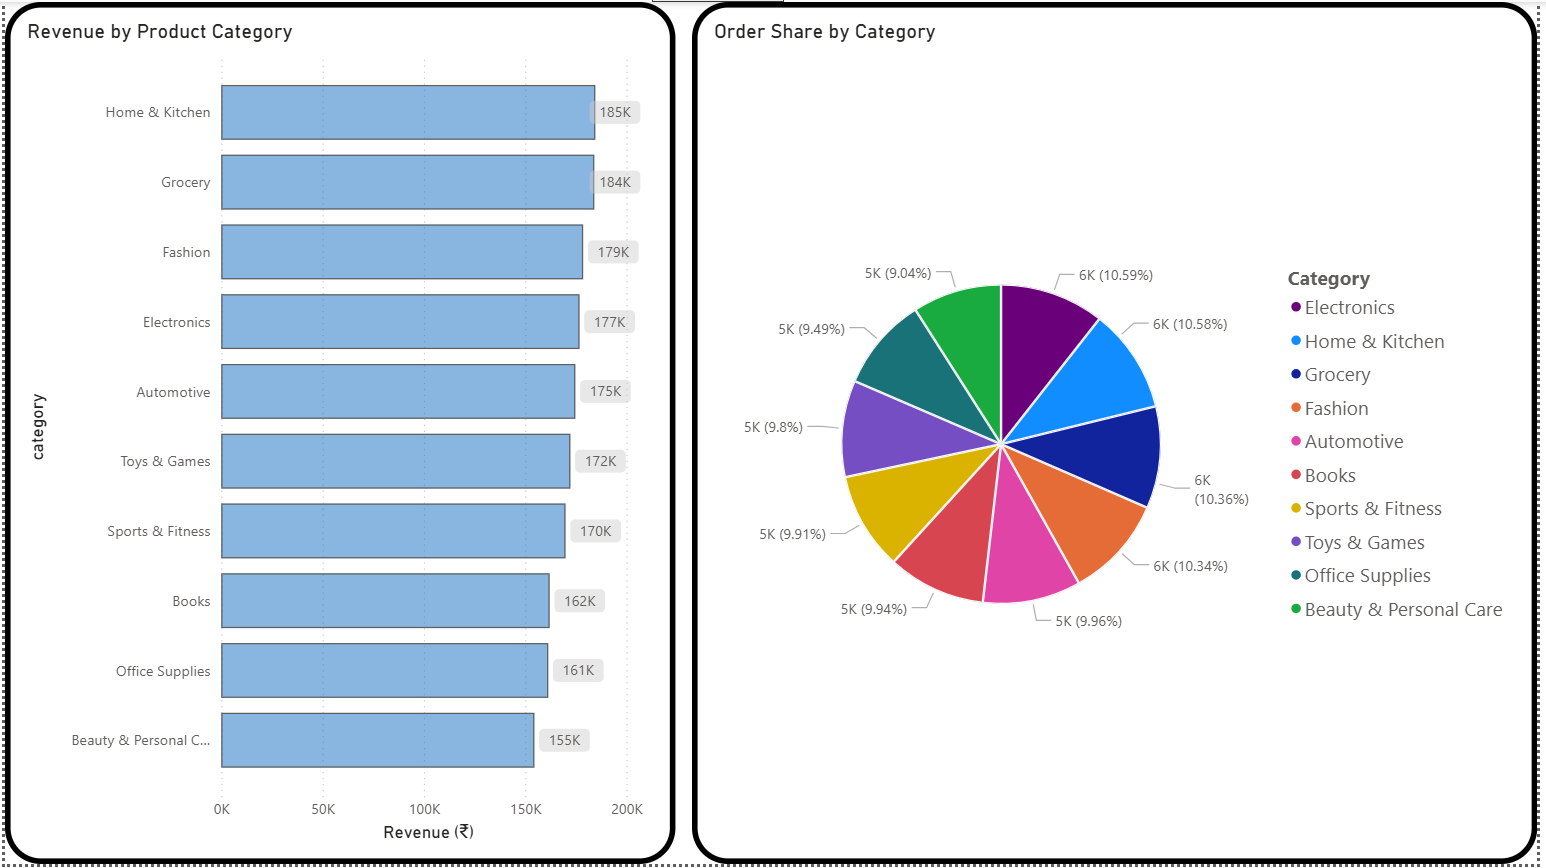

The dashboard page shown, as its layout file describes it:
{"tool":"powerbi","page":{"name":"Product & Category Analysis","canvas":[1280,720],"ordinal":1},"visuals":[{"type":"clusteredBarChart","title":"Revenue by Product Category","fields":{"Category":["powerbi_category_revenue.category"],"Y":["Sum(powerbi_category_revenue.revenue)"]},"box":[0,0,560,720],"z":0},{"type":"pieChart","title":"Order Share by Category","fields":{"Category":["powerbi_category_revenue.category"],"Y":["Sum(powerbi_category_revenue.orders)"]},"box":[574,0,706,720],"z":1}]}

Visuals, with their boxes in screenshot pixels (x1, y1, x2, y2), scaled from the page's 1280x720 canvas onto the 1546x868 screenshot:
"Revenue by Product Category" clusteredBarChart: x1=0, y1=0, x2=676, y2=867
"Order Share by Category" pieChart: x1=693, y1=0, x2=1545, y2=867
